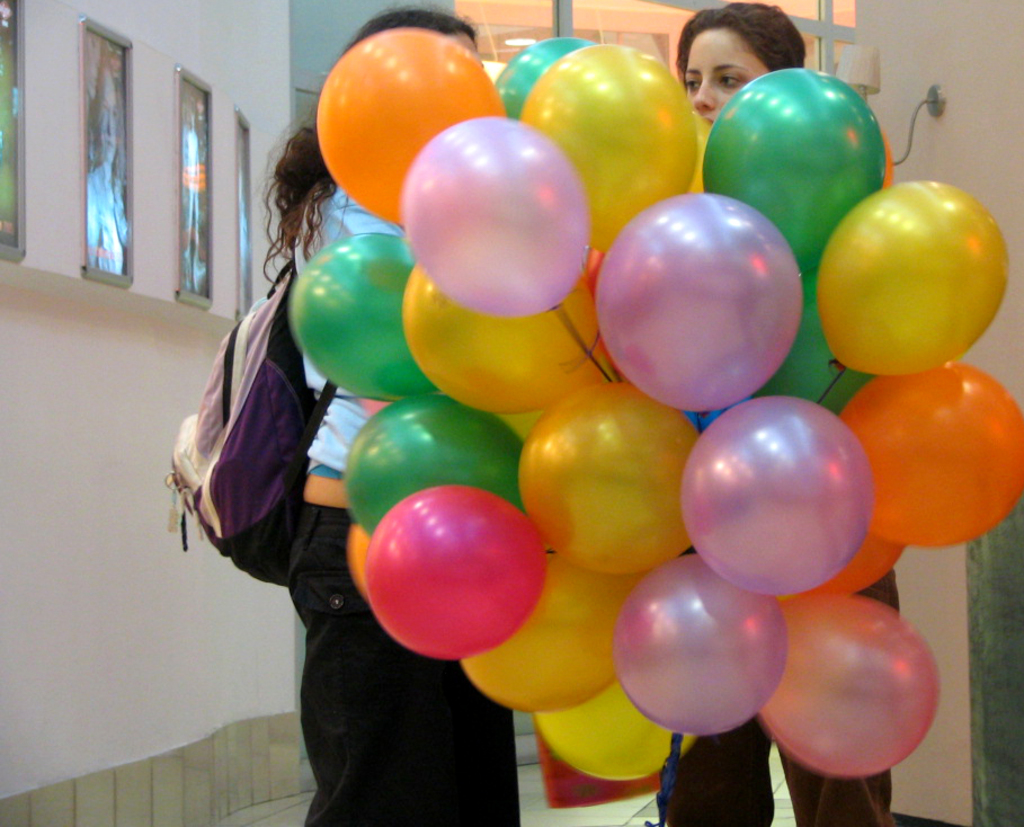face: (682, 34, 770, 134)
